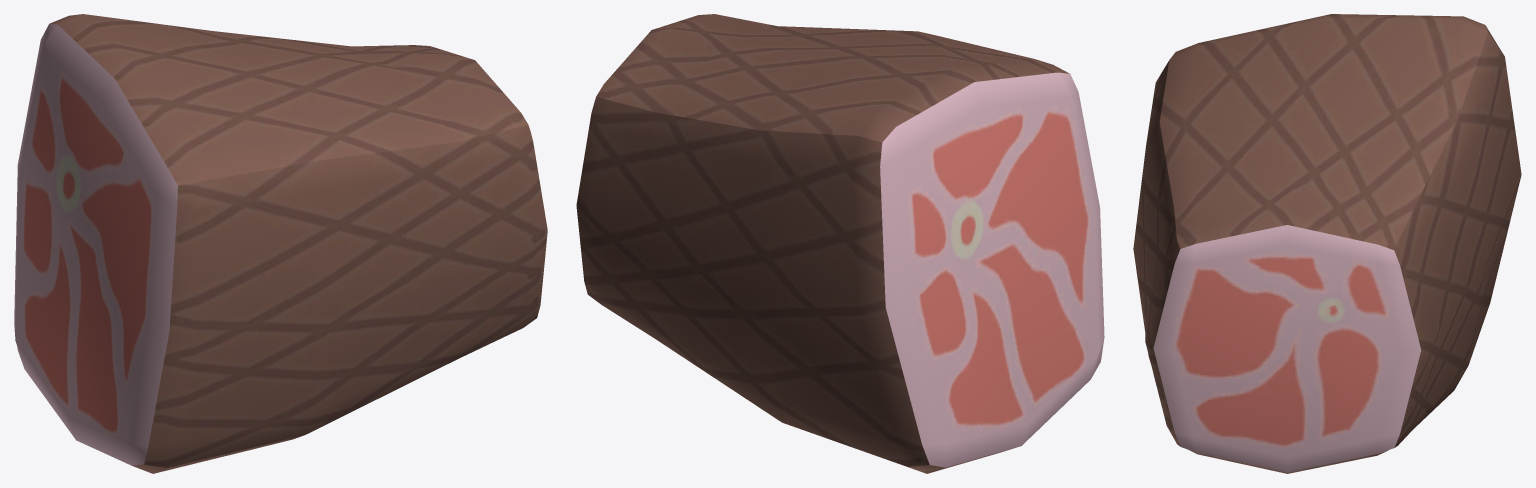
File: ham.glb
The picture shows the model from 3 angles, left to right: view 1: azimuth 30°, elevation 25°; view 2: azimuth 150°, elevation 25°; view 3: azimuth 270°, elevation 25°; orthographic projection. The views are drawn at different scales.
Parts seen in each view (by area): view 1: Quest_Campfire_Ham; view 2: Quest_Campfire_Ham; view 3: Quest_Campfire_Ham.
Part boxes in pixels (left/top/right/bottom): Quest_Campfire_Ham: left=14, top=14, right=547, bottom=473; Quest_Campfire_Ham: left=576, top=14, right=1104, bottom=473; Quest_Campfire_Ham: left=1133, top=14, right=1521, bottom=473.
Bounding box in the file's own units: 0.3884 × 0.3347 × 0.3211.
Materials: 1 (1 with a texture image).
